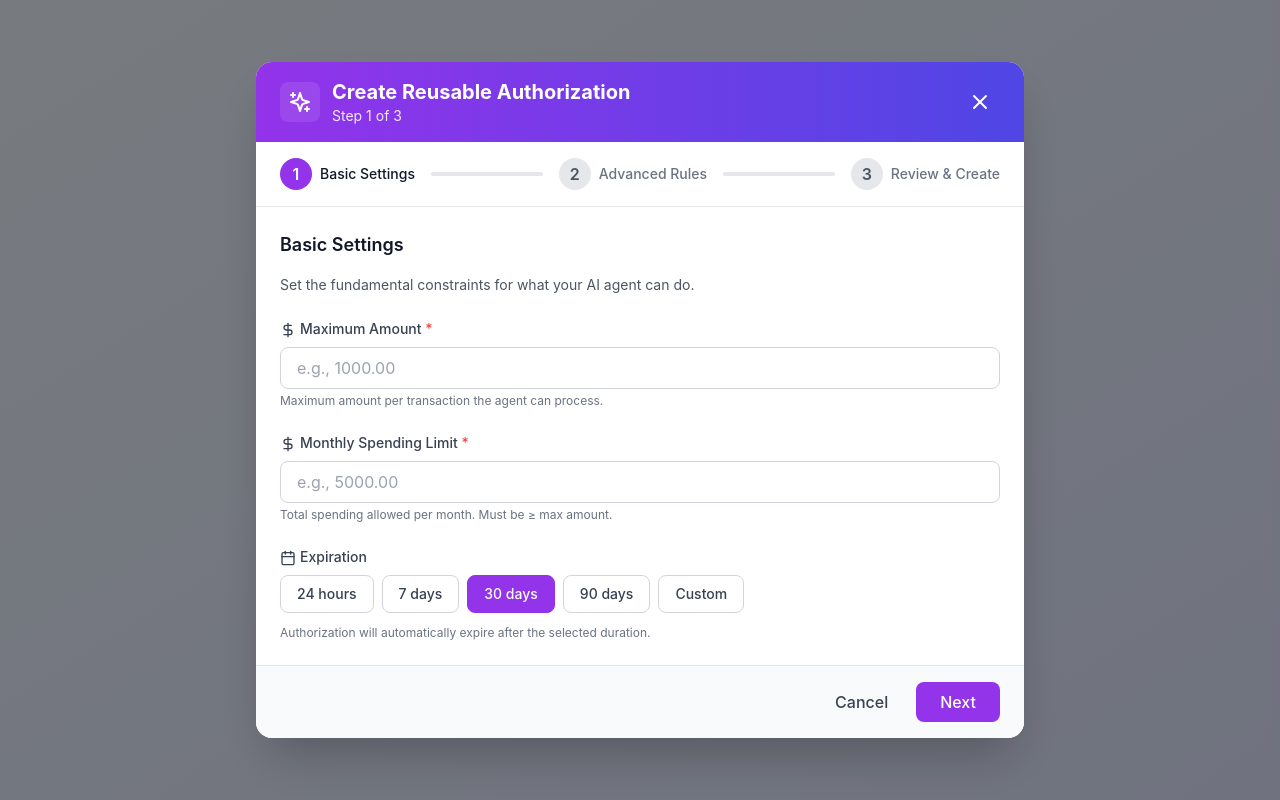
AP2 Components › ConstraintBuilder › should allow adding categories
// Fill required fields before navigating
Type "500" into the number field with placeholder "e.g., 1000.00" at (640, 368), box [280, 347, 1000, 389]
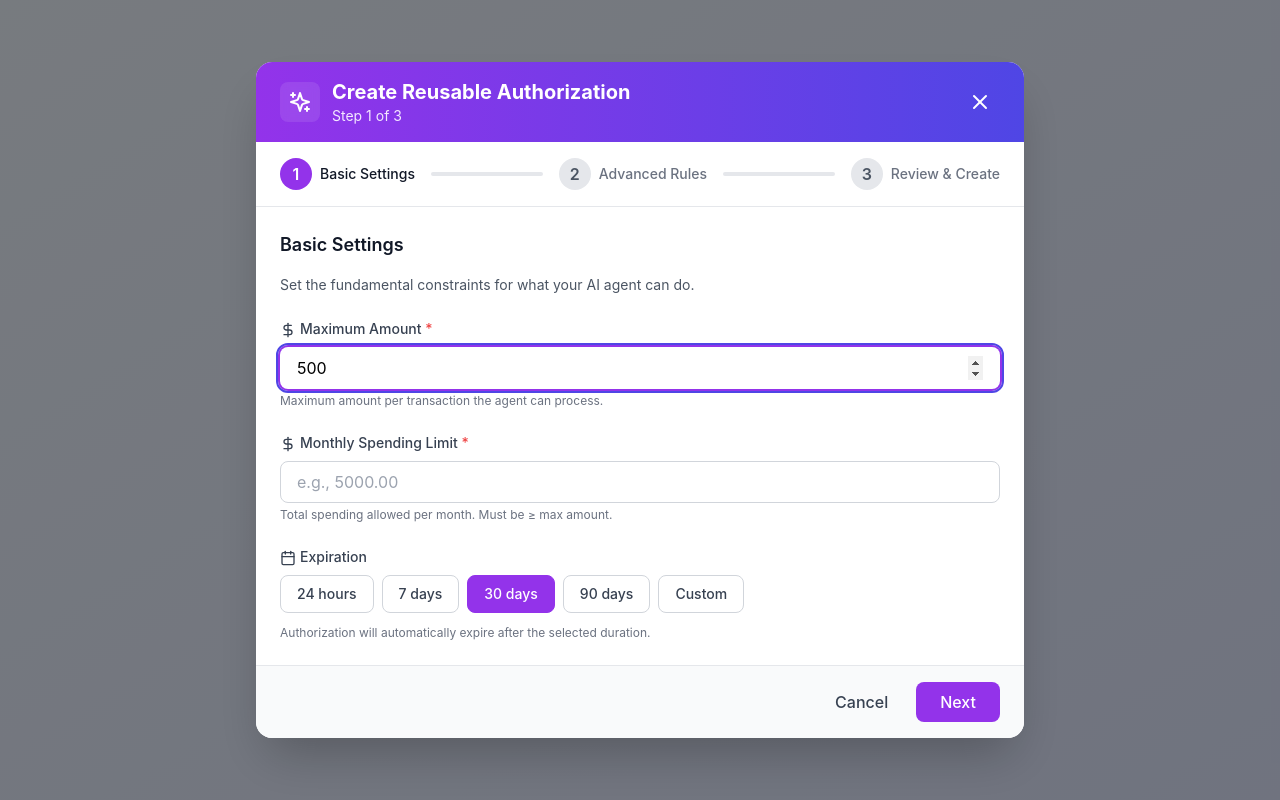
Type "5000" into the number field with placeholder "e.g., 5000.00" at (640, 482), box [280, 461, 1000, 503]
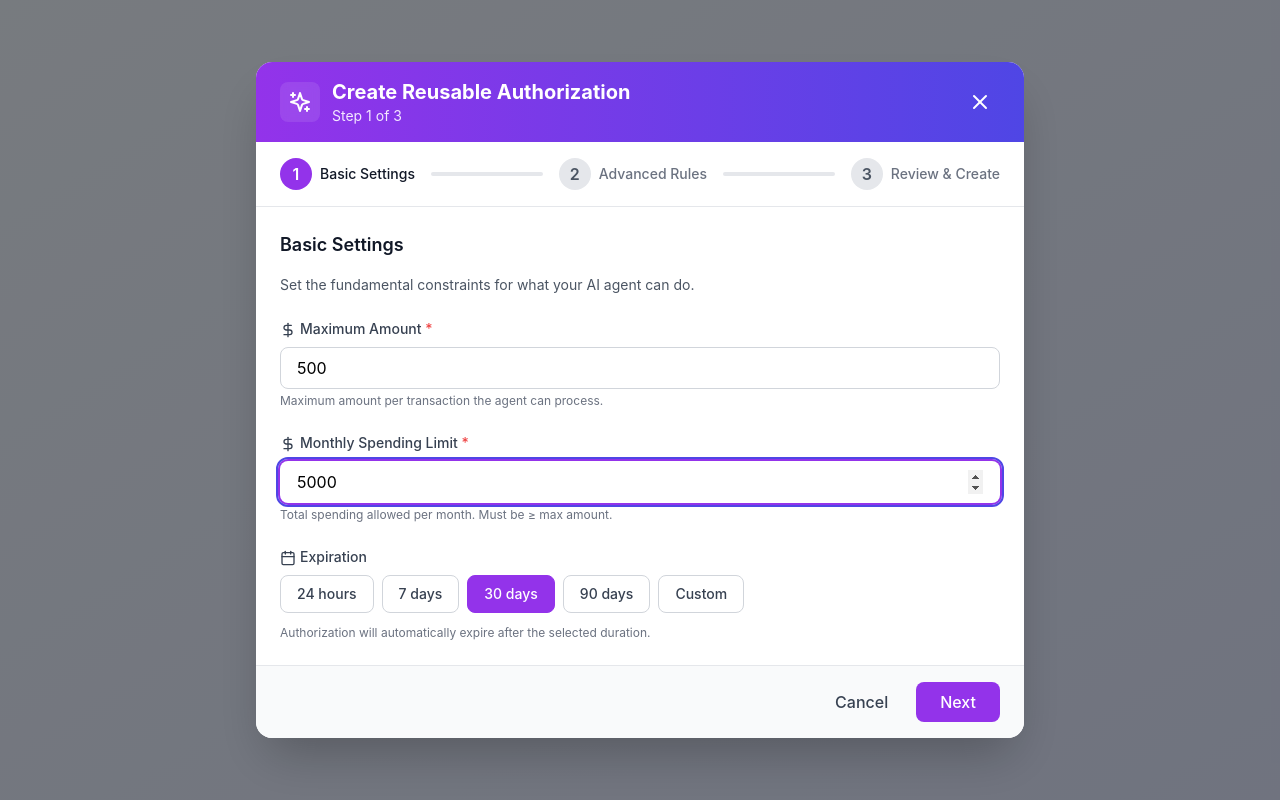
// Navigate to Step 2
Click the button "Next" at (958, 702), box [916, 682, 1000, 722]
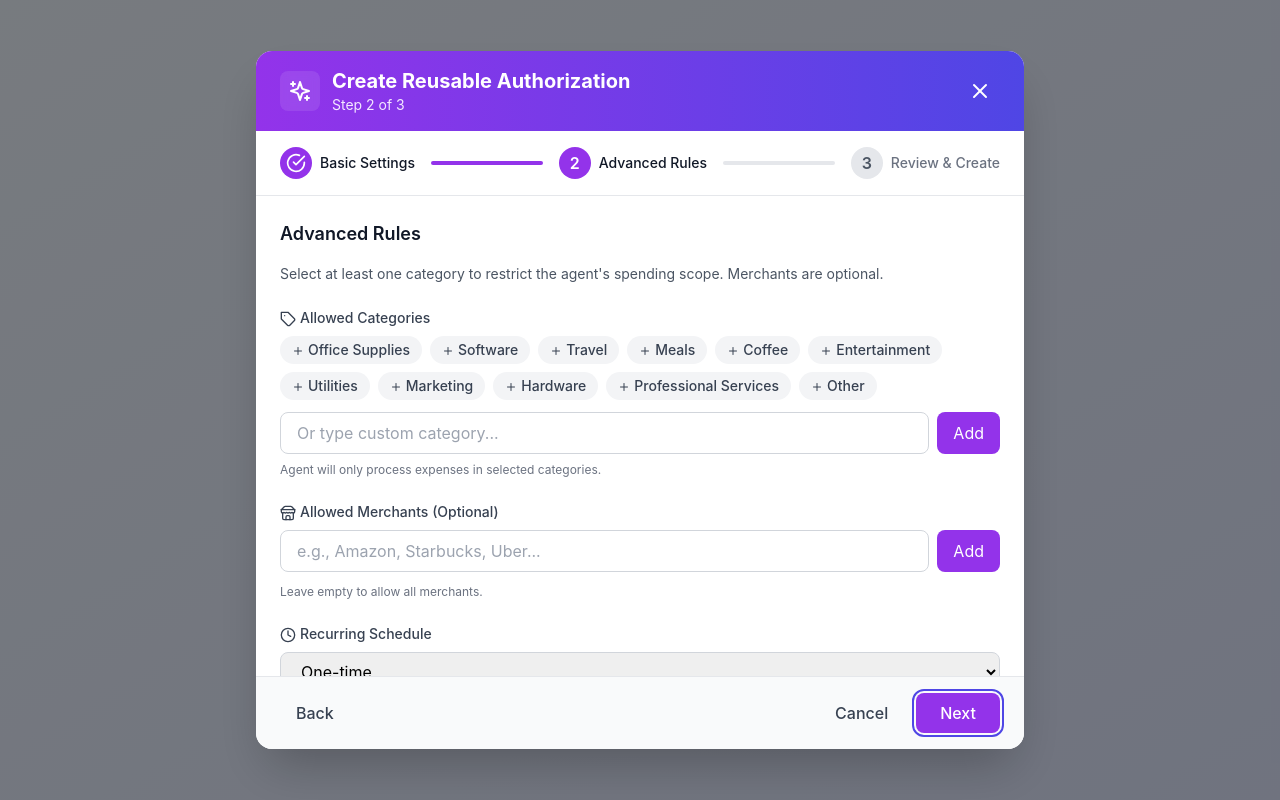
// Click a predefined category button
Click the button "Office Supplies" at (351, 350), box [280, 336, 422, 364]
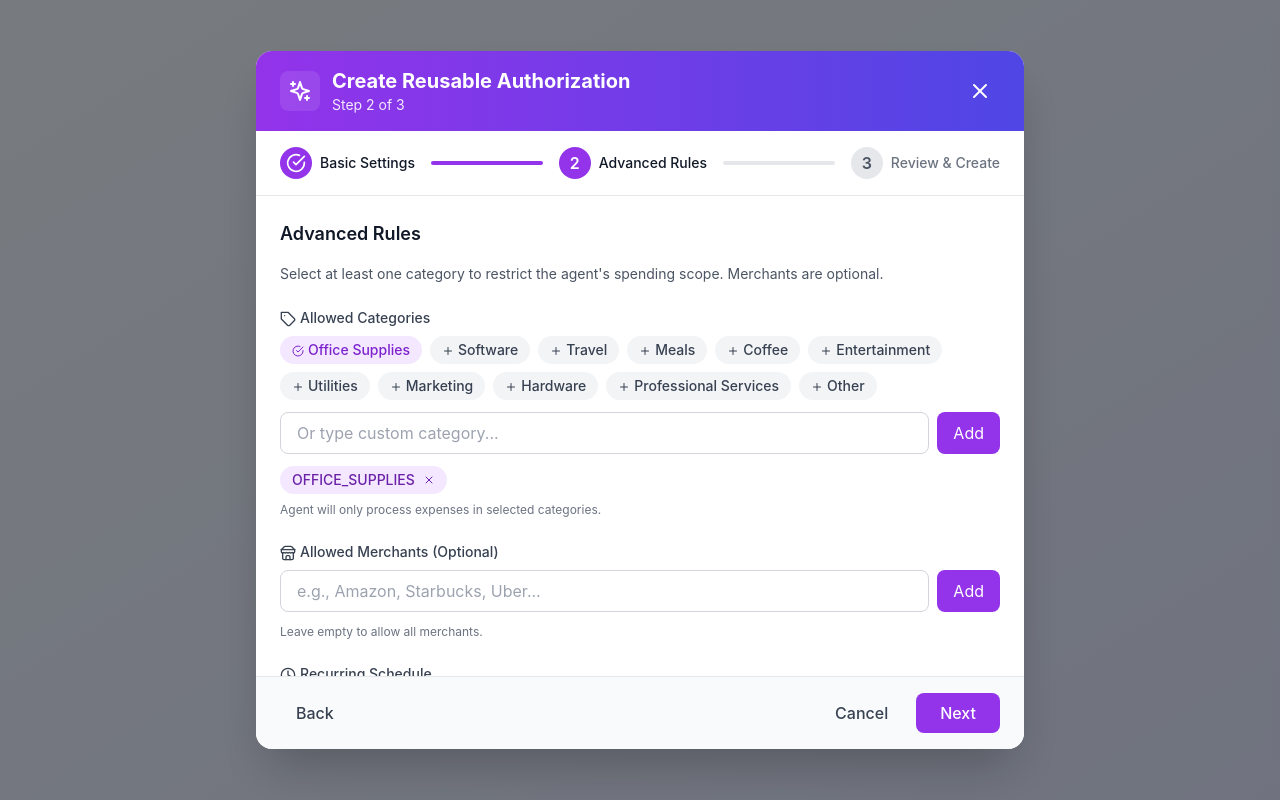
Check: the text "OFFICE_SUPPLIES" is shown, box [280, 466, 447, 494]
